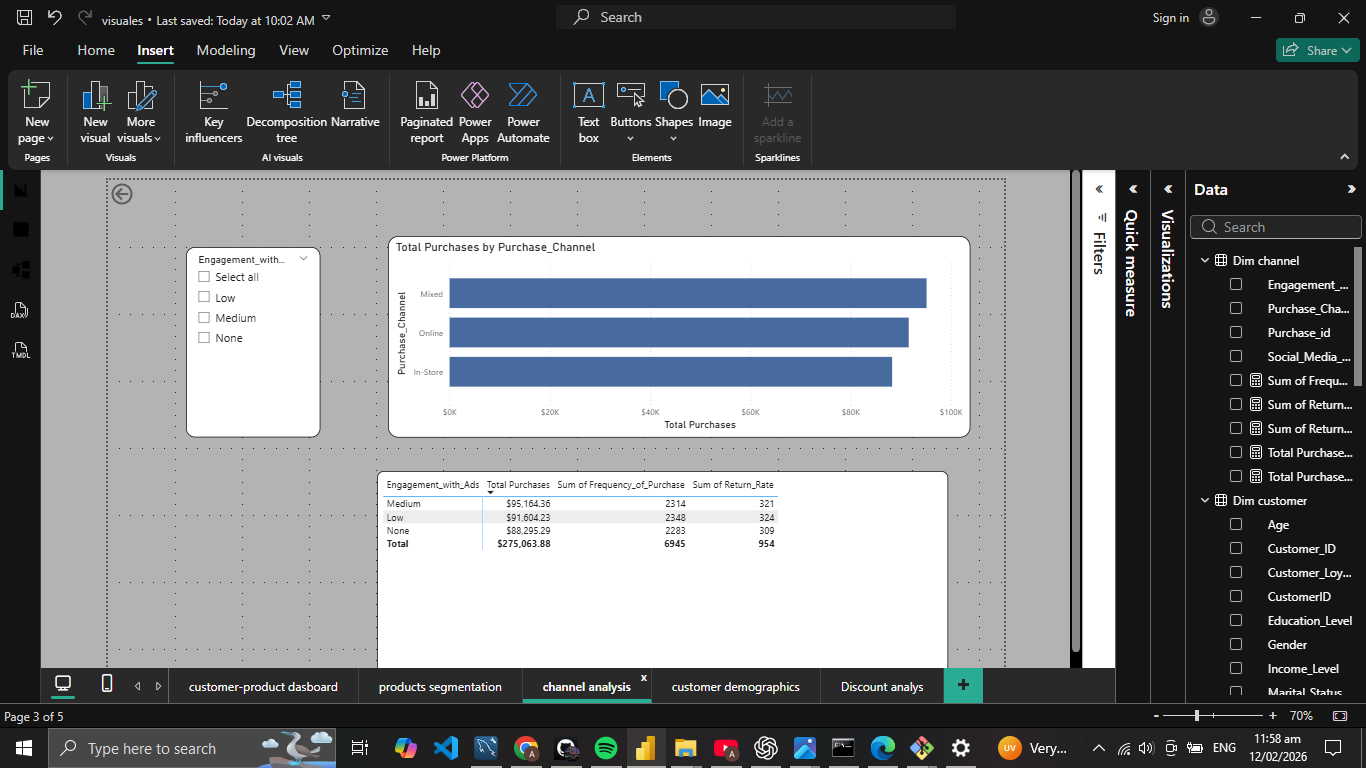

This screenshot's page, from the dashboard's own definition file:
{"tool":"powerbi","page":{"name":"channel analysis","canvas":[1280,720],"ordinal":2},"visuals":[{"type":"pivotTable","fields":{"Rows":["Dim channel.Engagement_with_Ads"],"Values":["Fact eccomerce.Total Purchases","Sum(Fact eccomerce.Frequency_of_Purchase)","Sum(Fact eccomerce.Return_Rate)"]},"box":[384,416,816,304],"z":0},{"type":"clusteredBarChart","fields":{"Category":["Dim channel.Purchase_Channel"],"Y":["Fact eccomerce.Total Purchases"]},"box":[400,80,832,288],"z":1000},{"type":"actionButton","box":[0,0,100,40],"z":2000},{"type":"slicer","fields":{"Values":["Dim channel.Engagement_with_Ads"]},"box":[112,96,192,272],"z":2001}]}

Visuals, with their boxes on the page's 1280x720 design canvas (x1, y1, x2, y2). These are canvas units, not pixel positions in the 1366x768 screenshot, which may show the page scaled, cropped or inside an application window:
pivotTable - Dim channel.Engagement_with_Ads x Fact eccomerce.Total Purchases: locate(384, 416, 1200, 720)
clusteredBarChart - Dim channel.Purchase_Channel x Fact eccomerce.Total Purchases: locate(400, 80, 1232, 368)
actionButton: locate(0, 0, 100, 40)
slicer - Dim channel.Engagement_with_Ads: locate(112, 96, 304, 368)
